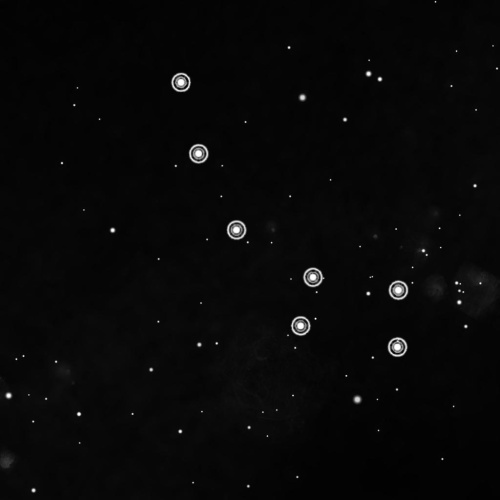ursa_minor: (162, 64, 417, 363)
